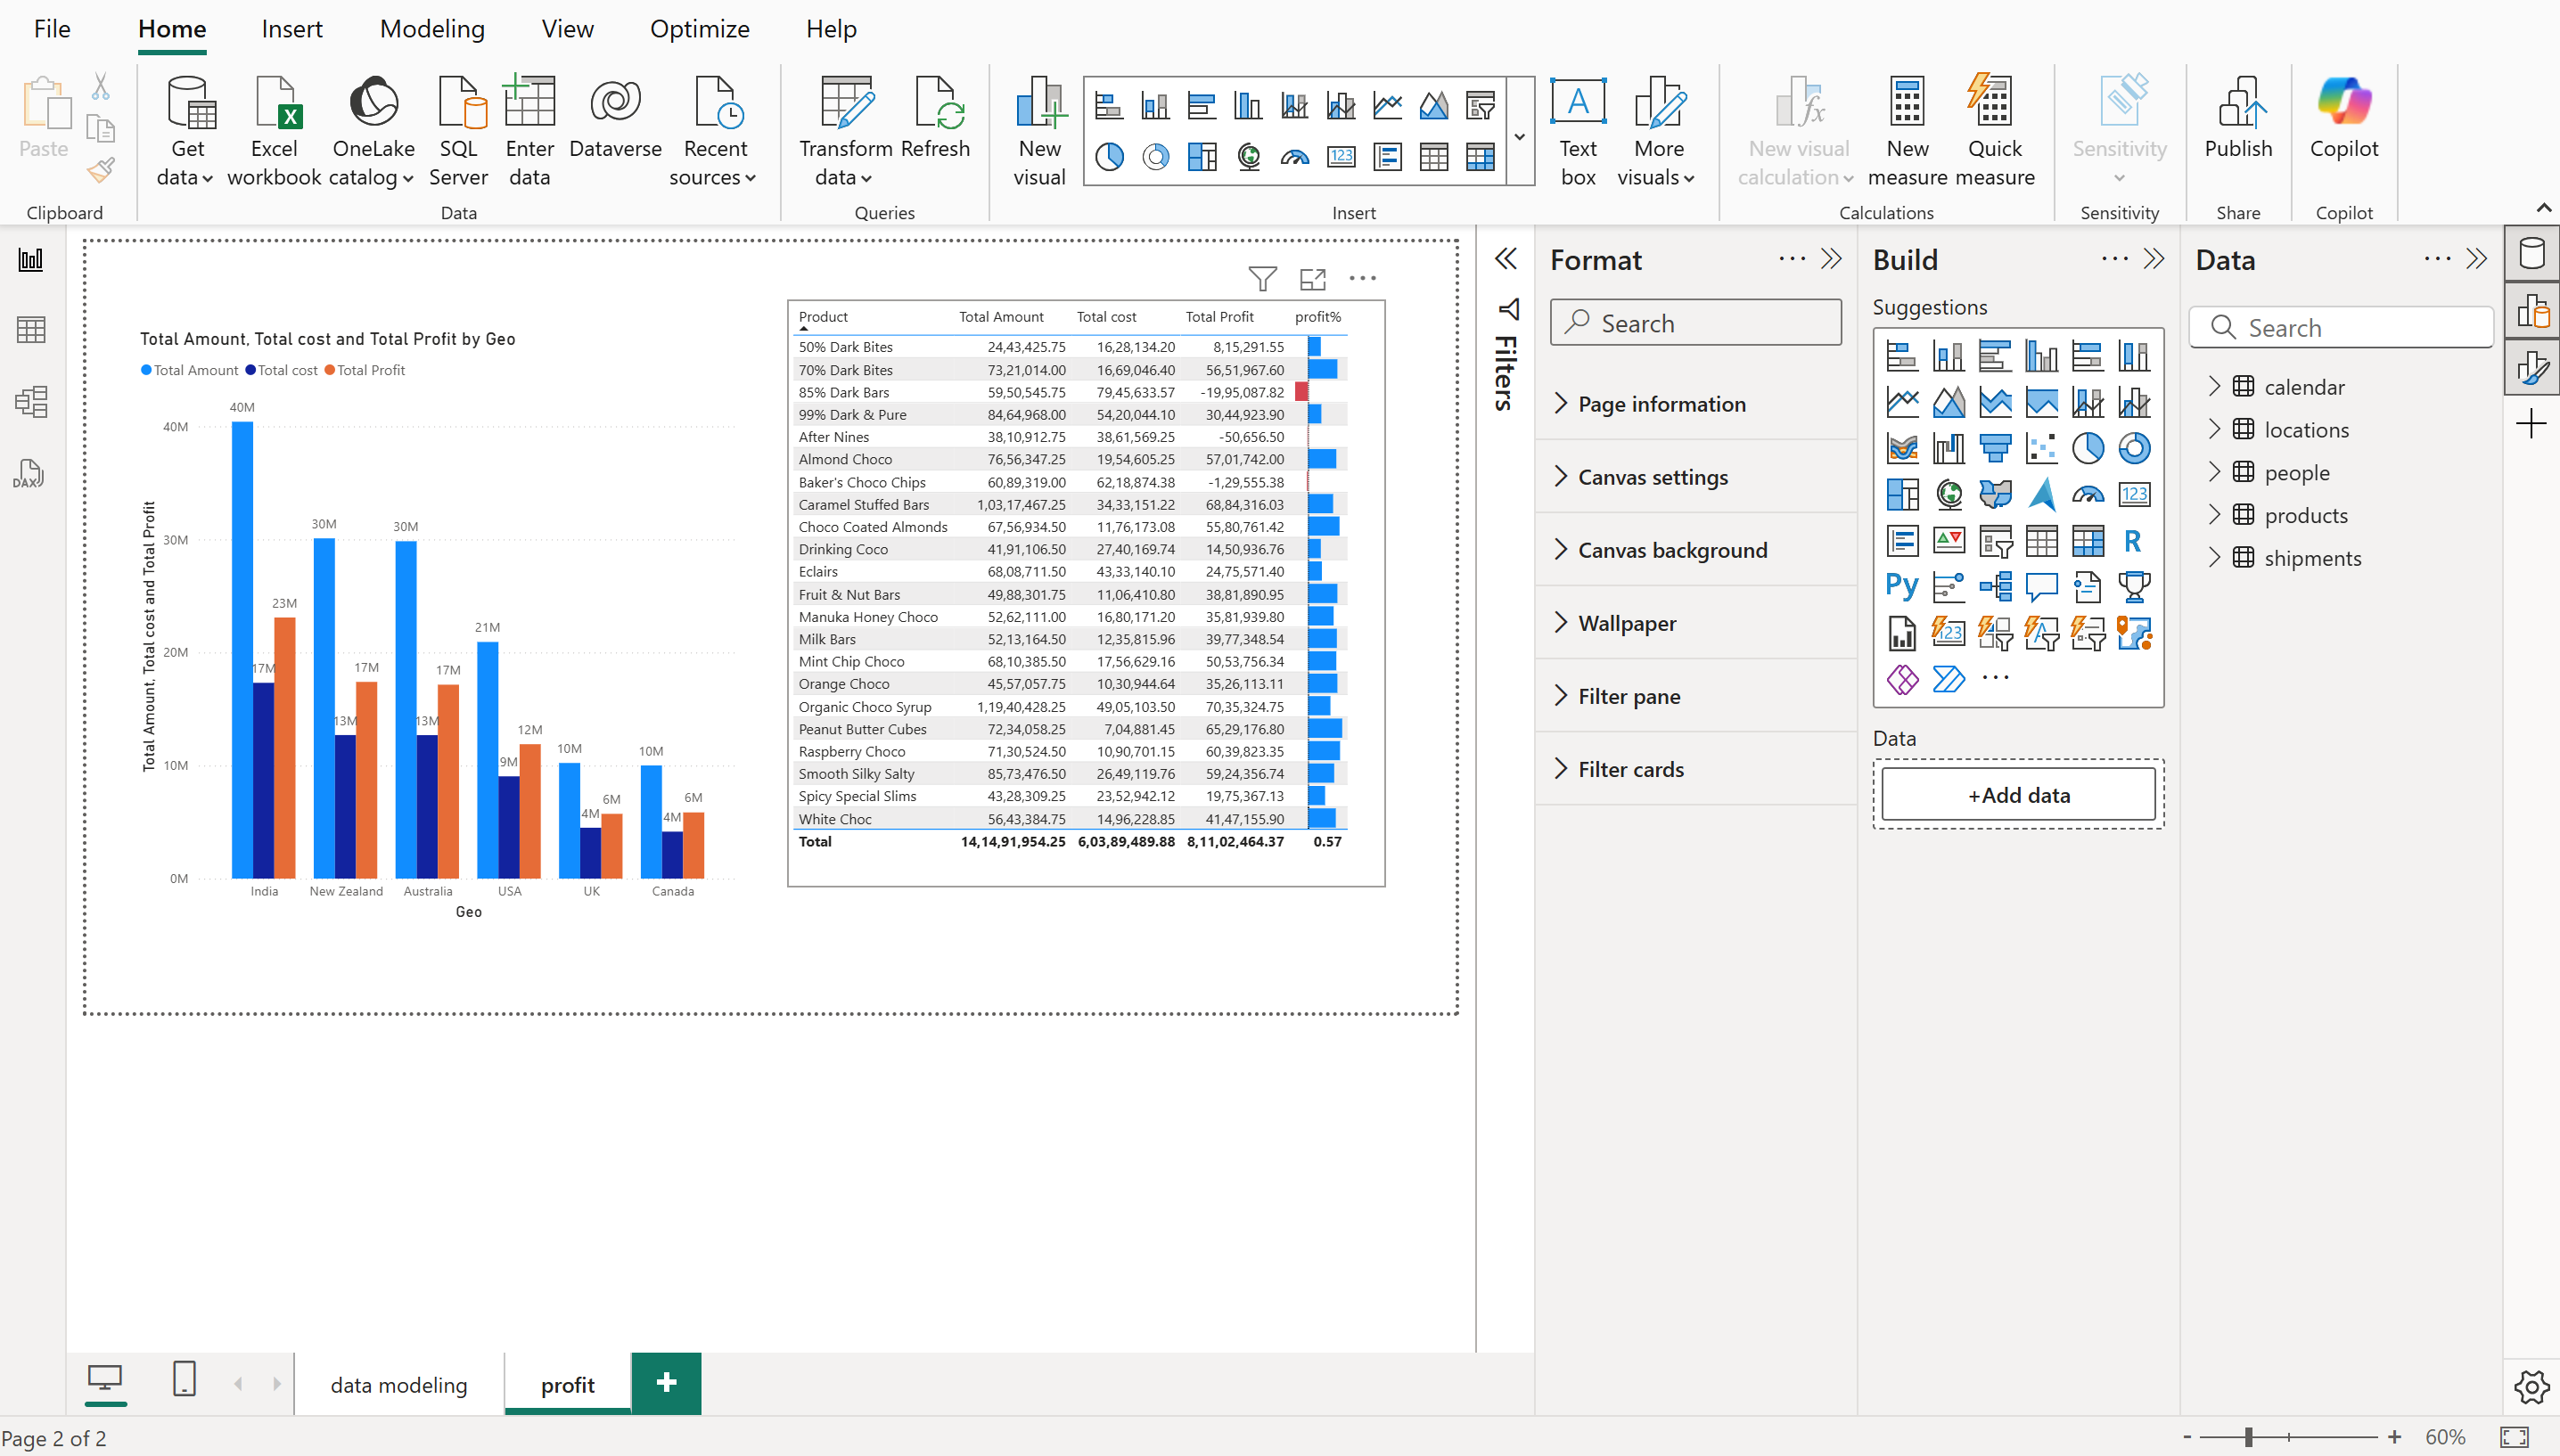

The page's visual inventory and layout, read from the dashboard file:
{"tool":"powerbi","page":{"name":"profit","canvas":[1280,720],"ordinal":1},"visuals":[{"type":"clusteredColumnChart","fields":{"Category":["locations.Geo"],"Y":["shipments.Total Amount","shipments.Total cost","shipments.Total Profit"]},"box":[46.2,20,570,558.8],"z":0},{"type":"tableEx","fields":{"Values":["products.Product","shipments.Total Amount","shipments.Total cost","shipments.Total Profit","shipments.profit%"]},"box":[655.7,52.9,560,550],"z":1}]}

Visuals, with their boxes on the page's 1280x720 design canvas (x1, y1, x2, y2). These are canvas units, not pixel positions in the 2560x1456 screenshot, which may show the page scaled, cropped or inside an application window:
clusteredColumnChart - locations.Geo x shipments.Total Amount: box=[46, 20, 616, 579]
tableEx - products.Product x shipments.Total Amount: box=[656, 53, 1216, 603]
